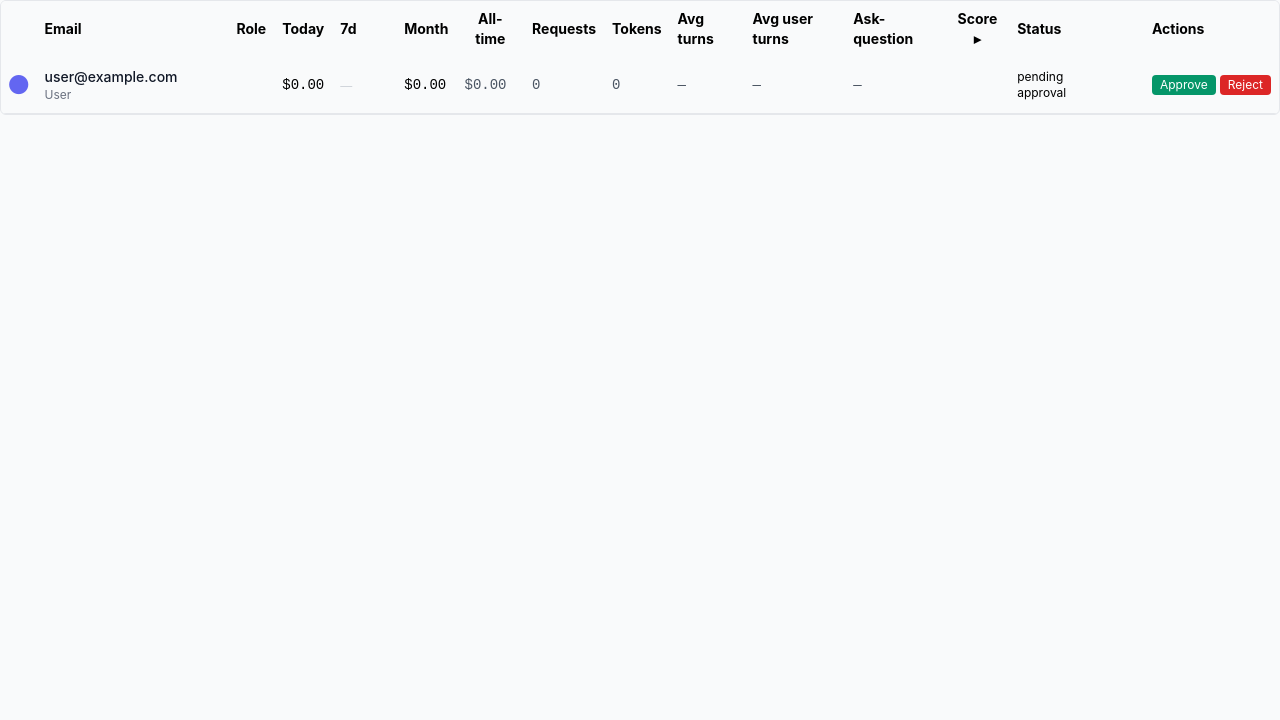
UserTable disabled models editing › shows the signup reason for a pending user when expanded
Click the text "user@example.com" at (111, 77), box top-left (44, 67), bottom-right (178, 87)
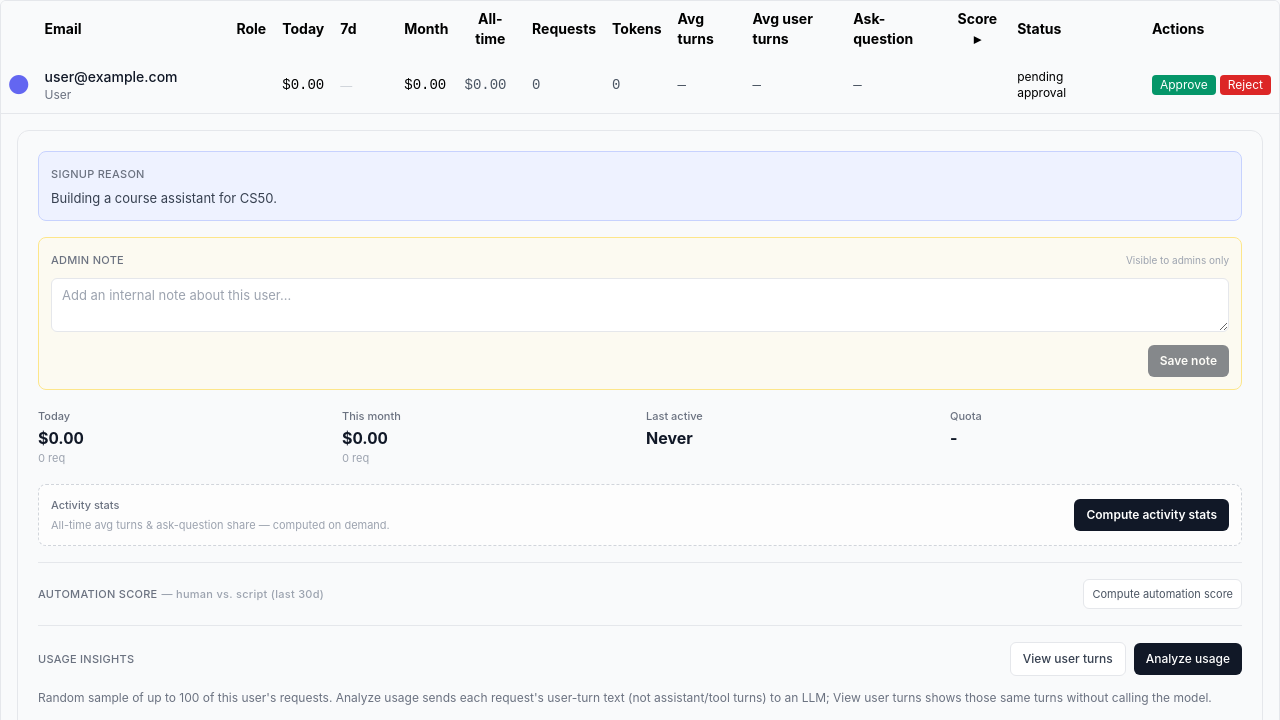
Expected: the text "Signup reason" is shown, top-left (51, 166), bottom-right (145, 180)
Expected: the text "Building a course assistant for CS50." is shown, top-left (51, 190), bottom-right (277, 206)
